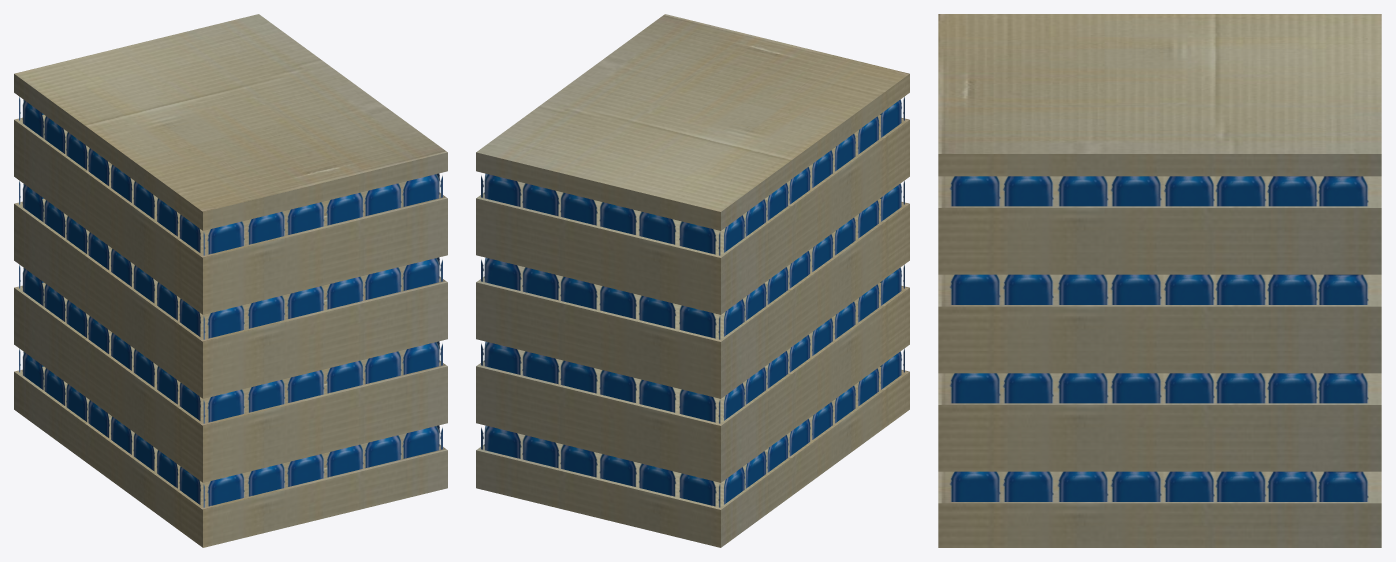
Rendered from CanBoxMediumBlue.glb.
3 renders of one model, left to right at view 1: azimuth 30°, elevation 25°; view 2: azimuth 150°, elevation 25°; view 3: azimuth 270°, elevation 25°, orthographic. The views are drawn at different scales.
Visible parts, largest first — view 1: Boxes_Refreshment _05; view 2: Boxes_Refreshment _05; view 3: Boxes_Refreshment _05.
Part boxes in pixels (x1,y1,x2,y2): Boxes_Refreshment _05: (14, 14, 447, 547); Boxes_Refreshment _05: (476, 14, 909, 547); Boxes_Refreshment _05: (938, 14, 1381, 547).
Bounding box in the file's own units: 0.9668 × 1.27 × 1.29.
2 materials, 2 textured.
